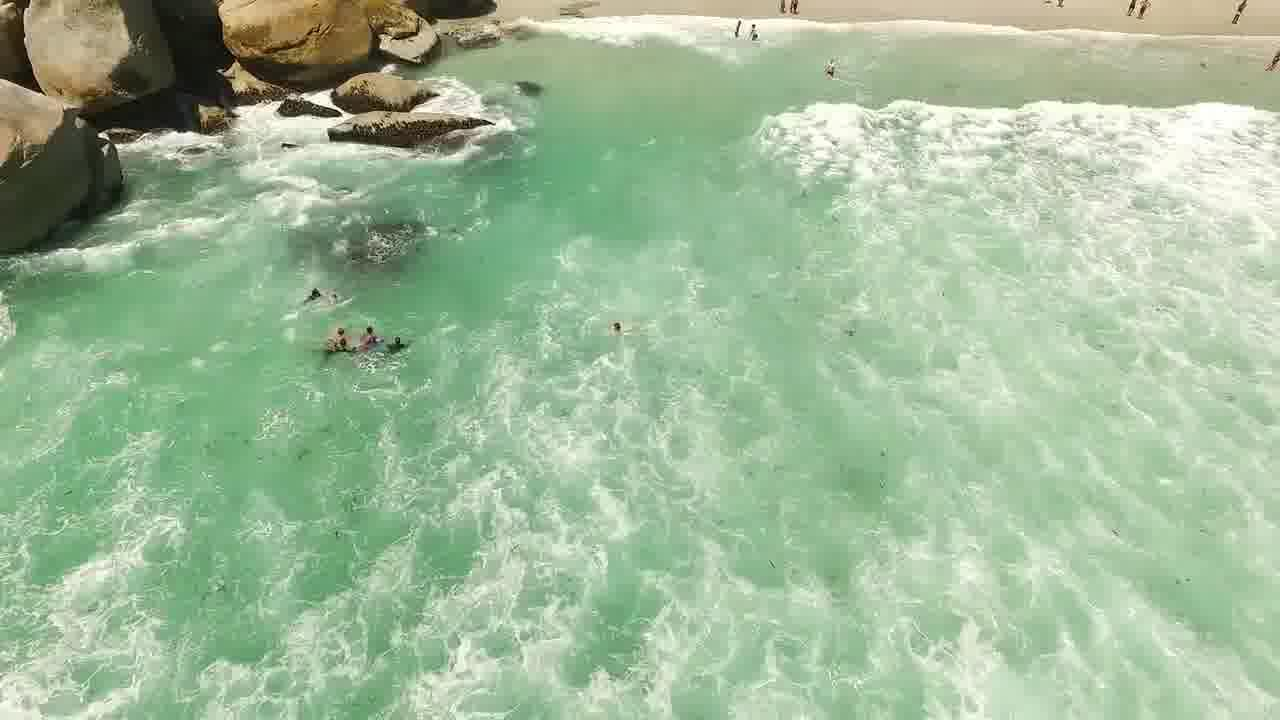human: (599, 305, 642, 351), (815, 47, 853, 84), (383, 320, 410, 361), (296, 276, 330, 302), (326, 318, 348, 350), (747, 12, 765, 48), (730, 14, 744, 41), (357, 305, 369, 336)
